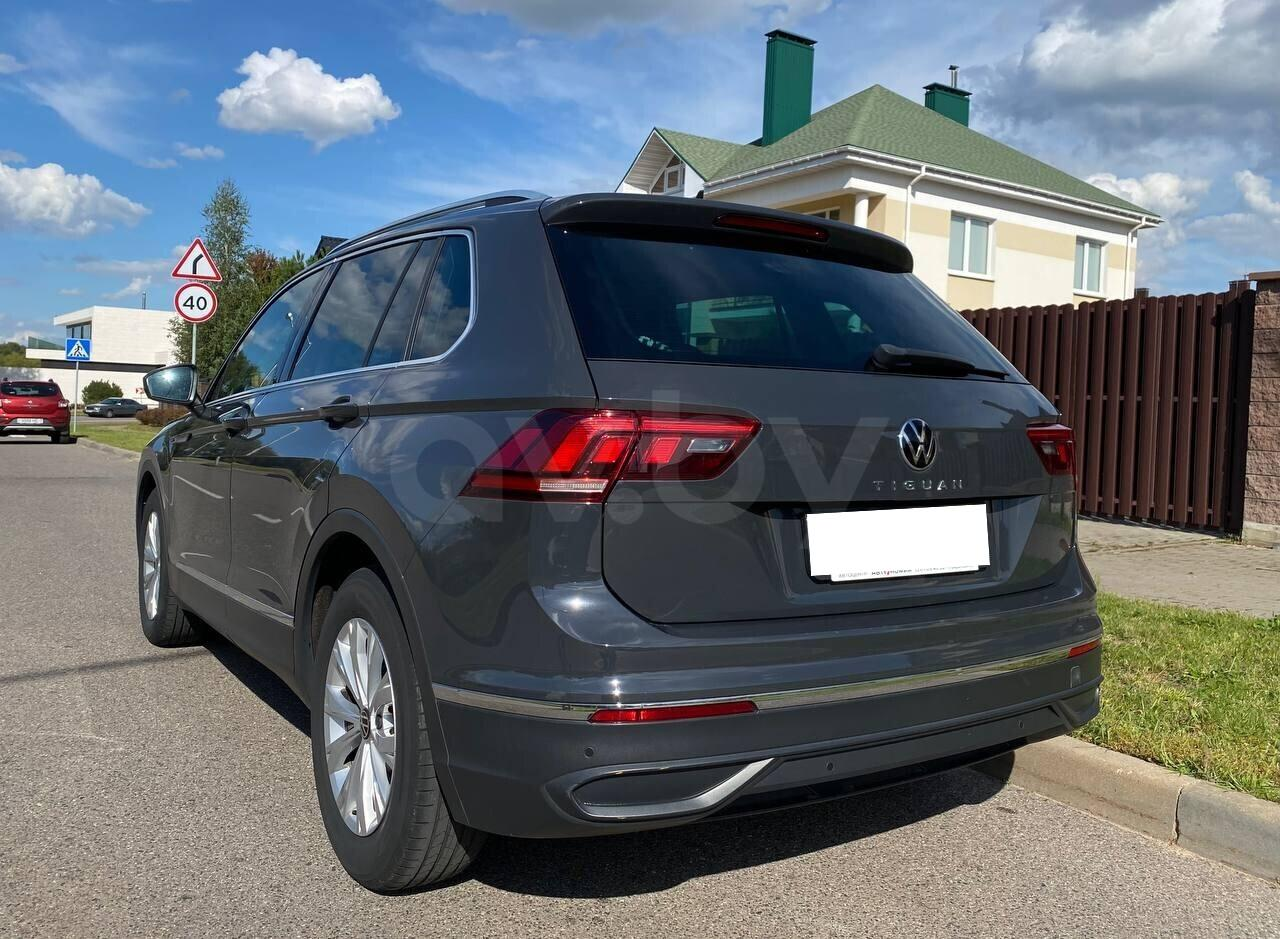Tiguan_2020-2024: (123, 189, 1114, 889)
